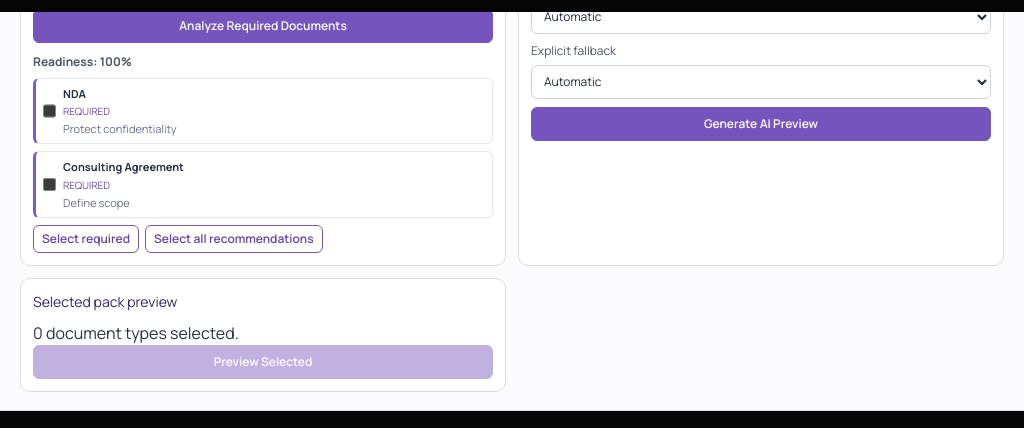
Scenario: DocumentAIAssistantPanel › pack preview keeps partial failures visible instead of silently saving them
Earlier steps of the test are not shown.
(page scrolled)
Click the button "Select all recommendations": click(234, 239) 145,225 -> 323,253
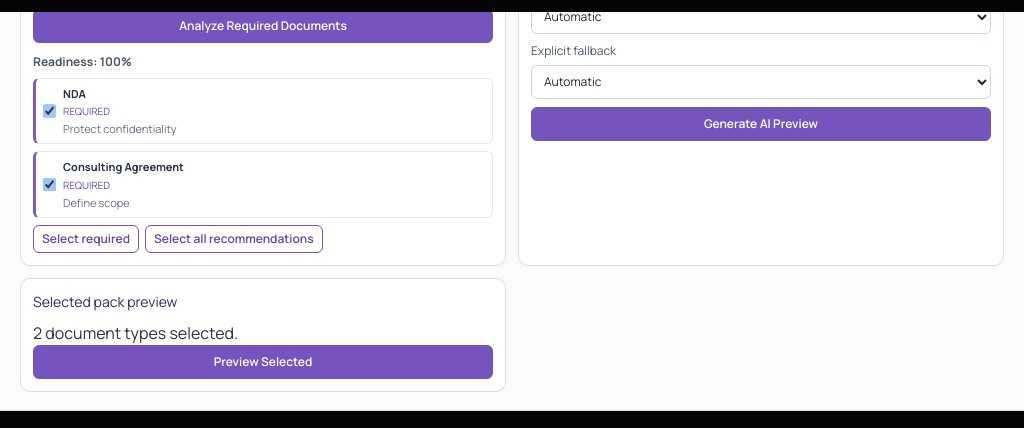
Click the button "Preview Selected": click(263, 362) 33,345 -> 493,379
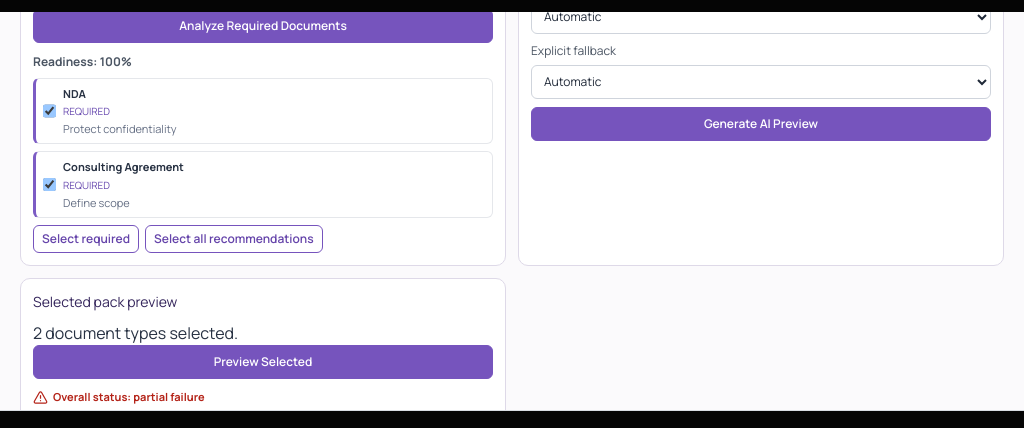
Now the text "Overall status: partial failure" is shown, box 33,389 -> 205,405
